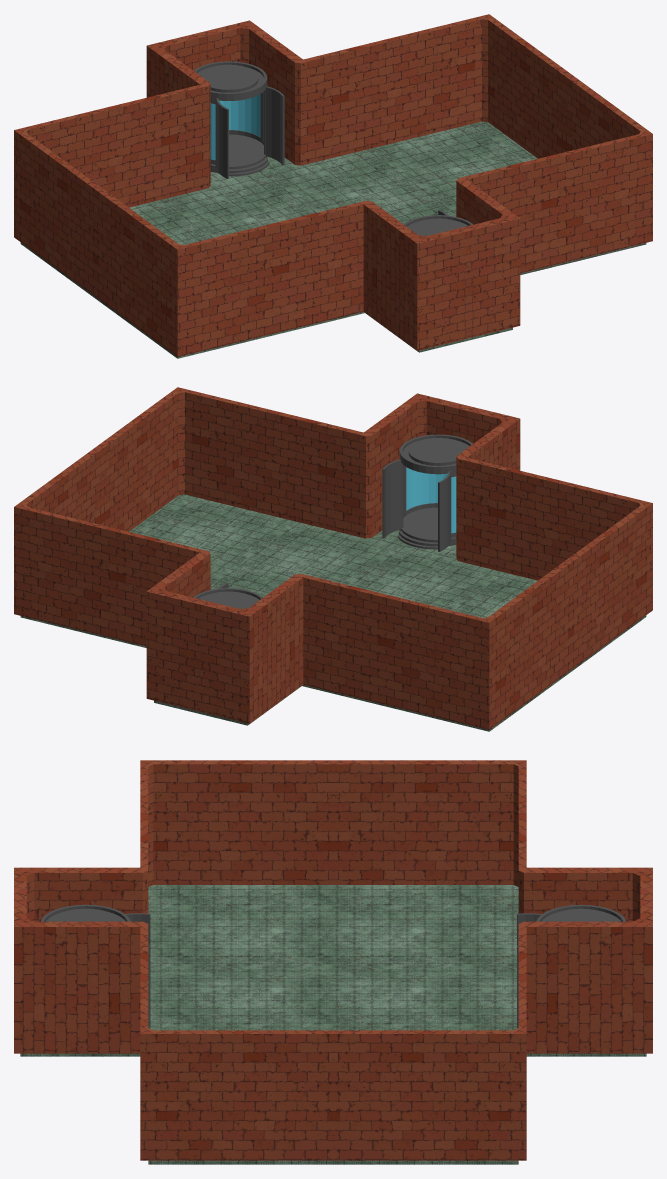
File: hub.fbx
The picture shows the model from 3 angles, top to bottom: view 1: azimuth 30°, elevation 25°; view 2: azimuth 150°, elevation 25°; view 3: azimuth 270°, elevation 25°; orthographic projection. The views are drawn at different scales.
Visible parts, largest first — view 1: Cube.004, Cube, Cylinder.003, Cylinder.004, Cylinder.001, Cylinder.005, Cylinder.011, Cylinder.006; view 2: Cube.004, Cube, Cylinder.011, Cylinder.012, Cylinder.009, Cylinder.014, Cylinder.003, Cylinder.013; view 3: Cube.004, Cube, Cylinder.011, Cylinder.003.
Boxes of the visible parts, left/top/right/bottom form: Cube.004: left=14, top=14, right=652, bottom=356; Cube: left=20, top=121, right=646, bottom=358; Cylinder.003: left=194, top=61, right=267, bottom=100; Cylinder.004: left=210, top=94, right=260, bottom=160; Cylinder.001: left=210, top=134, right=269, bottom=176; Cylinder.005: left=265, top=86, right=284, bottom=165; Cylinder.011: left=404, top=215, right=472, bottom=235; Cylinder.006: left=216, top=98, right=228, bottom=178; Cube.004: left=14, top=387, right=652, bottom=729; Cube: left=20, top=494, right=646, bottom=731; Cylinder.011: left=399, top=434, right=472, bottom=474; Cylinder.012: left=406, top=467, right=456, bottom=533; Cylinder.009: left=397, top=507, right=456, bottom=549; Cylinder.014: left=382, top=459, right=401, bottom=538; Cylinder.003: left=193, top=588, right=262, bottom=608; Cylinder.013: left=438, top=471, right=450, bottom=551; Cube.004: left=14, top=760, right=652, bottom=1160; Cube: left=20, top=885, right=646, bottom=1164; Cylinder.011: left=41, top=904, right=130, bottom=921; Cylinder.003: left=536, top=904, right=626, bottom=921.
Size of the model in its own units: 1014 by 229 by 1000.
